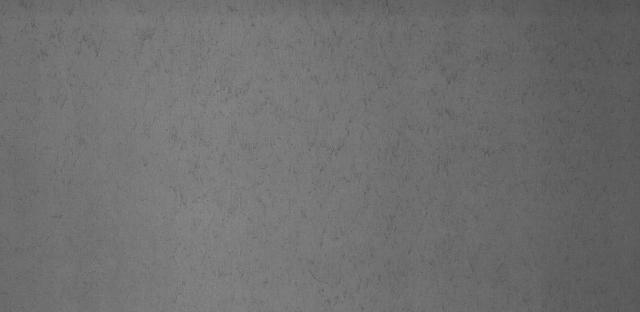silk_spot: (179, 3, 507, 210)
